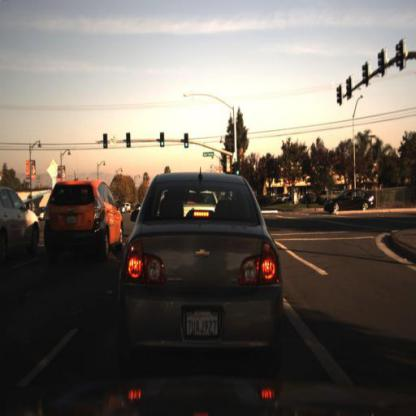car: (110, 165, 302, 363), (40, 167, 130, 279), (45, 178, 128, 261), (1, 175, 47, 269), (320, 183, 380, 223), (9, 186, 49, 224)
trafficLight: (125, 132, 133, 155), (160, 130, 168, 149)
trafficLight-Green: (180, 128, 194, 160), (101, 129, 111, 157), (234, 161, 242, 186), (158, 131, 166, 154)
trafficLight-GreenLeft: (103, 130, 111, 151)
trafficLight-Red: (235, 161, 243, 179), (183, 133, 190, 153)
